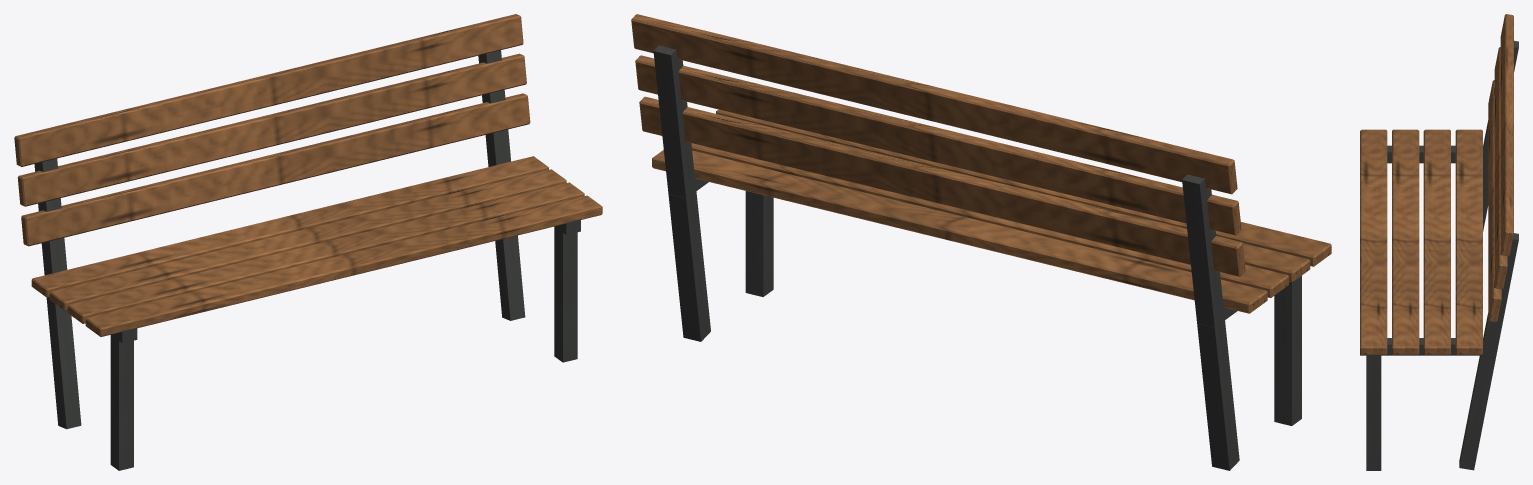
Rendered from OB_Lawka.fbx.
3 renders of one model, left to right at view 1: azimuth 30°, elevation 25°; view 2: azimuth 150°, elevation 25°; view 3: azimuth 270°, elevation 25°, orthographic. The views are drawn at different scales.
Parts seen in each view (by area): view 1: Lawka; view 2: Lawka; view 3: Lawka.
Boxes of the visible parts, <box> form: Lawka: <box>14,14,602,470</box>; Lawka: <box>631,14,1331,470</box>; Lawka: <box>1360,14,1518,470</box>.
Bounding box in the file's own units: 1.7 × 0.9062 × 0.5234.
